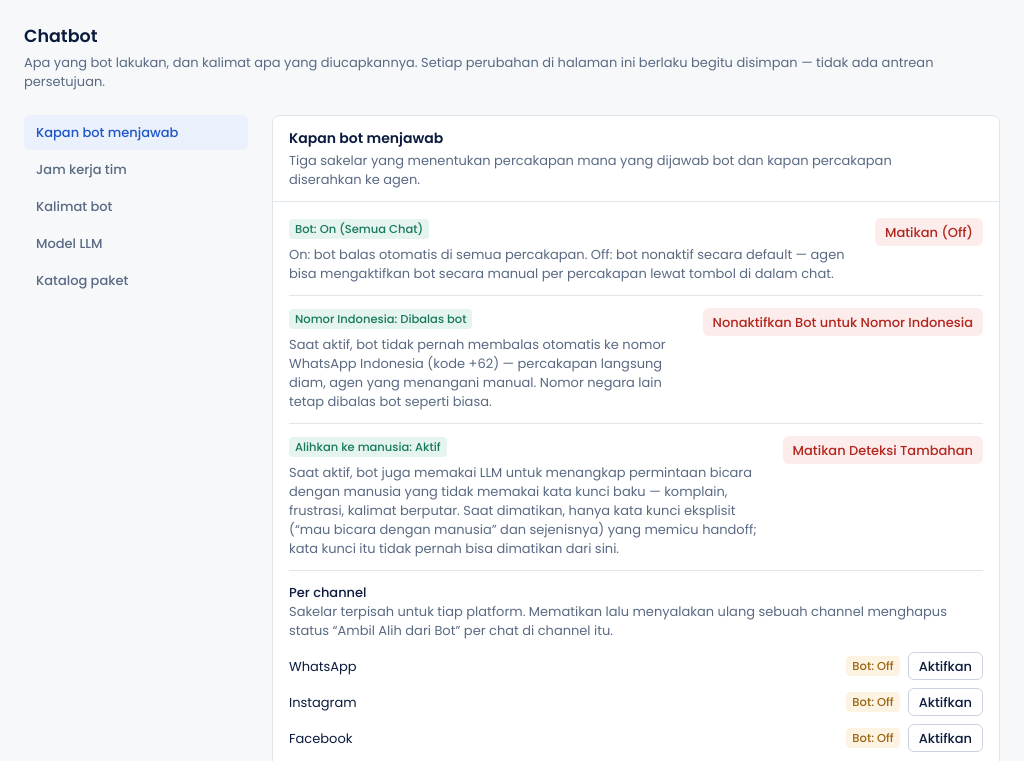
Scenario: ChatbotPage › shows the Indonesia-number filter status and toggles it
Expected: the text "Nomor Indonesia: Dibalas bot" is shown, [289, 309, 472, 329]
Click the button "Nonaktifkan Bot untuk Nomor Indonesia".
click(843, 322)  # box [703, 308, 983, 336]
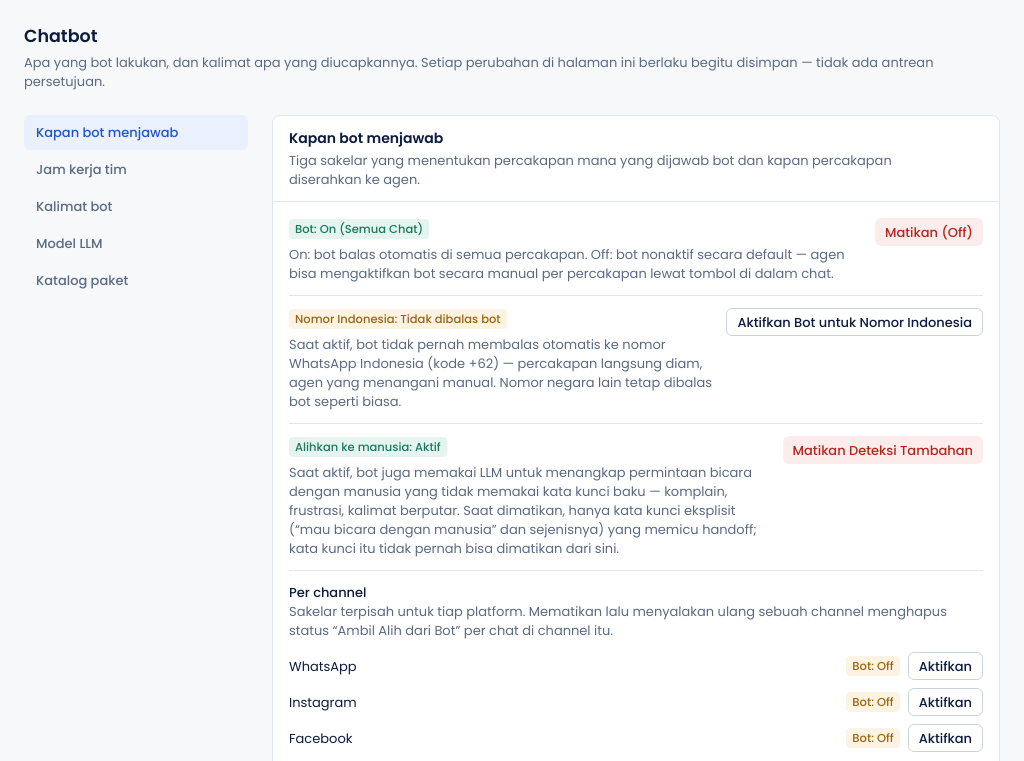
Result: the text "Nomor Indonesia: Tidak dibalas bot" is shown at [289, 309, 507, 329]
